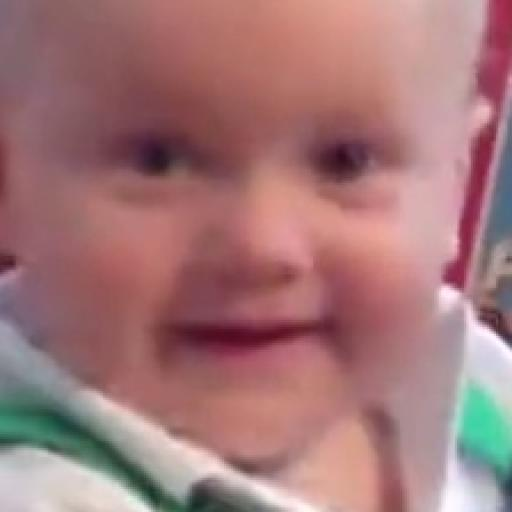Autism: (23, 7, 455, 512)
